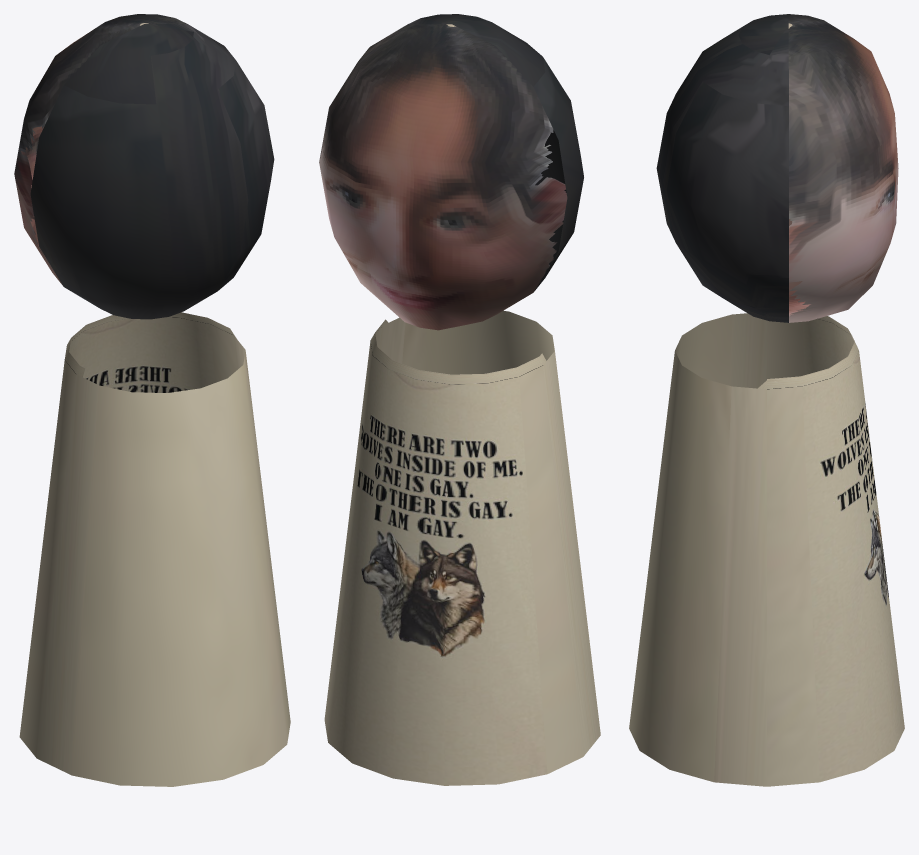
The model's file is louis_mii.fbx.
3 views of the same model, side by side, from view 1: azimuth 30°, elevation 25°; view 2: azimuth 150°, elevation 25°; view 3: azimuth 270°, elevation 25° (orthographic).
Parts seen in each view (by area): view 1: mii.002; view 2: mii.002; view 3: mii.002.
Part boxes in pixels (left/top/right/bottom): mii.002: left=14, top=14, right=290, bottom=786; mii.002: left=319, top=14, right=600, bottom=785; mii.002: left=629, top=14, right=904, bottom=786.
Bounding box in the file's own units: 50 × 160 × 50.
1 material, 1 textured.
